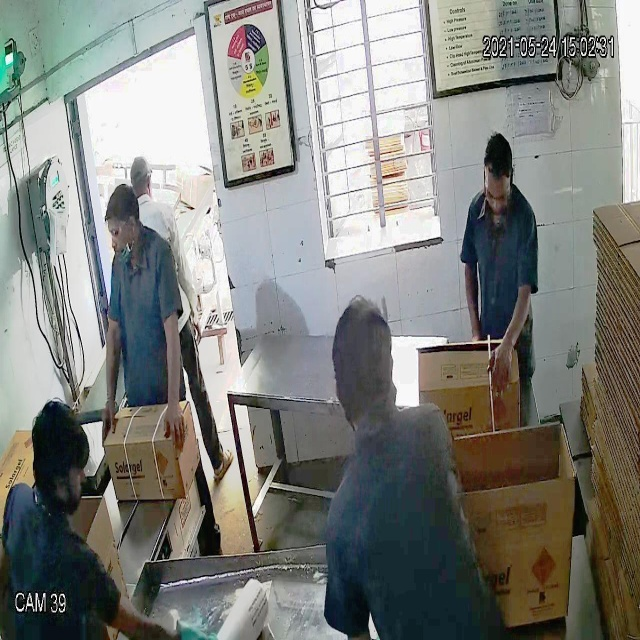Gafas: (483, 176, 514, 215), (104, 216, 139, 241)
